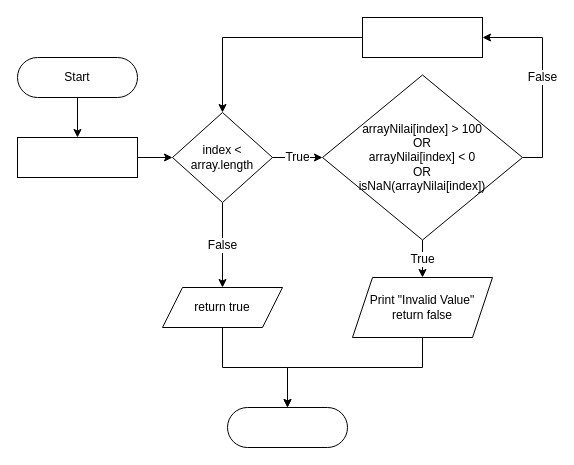
Some shapes in this 574 by 465 pixel diagram are drawn without their labels. Here are the shapes that lost their labels. From the top down, the centre of each, then its label:
At (422,37): "index++".
At (77,157): "let index = 0".
At (287,427): "Stop".
